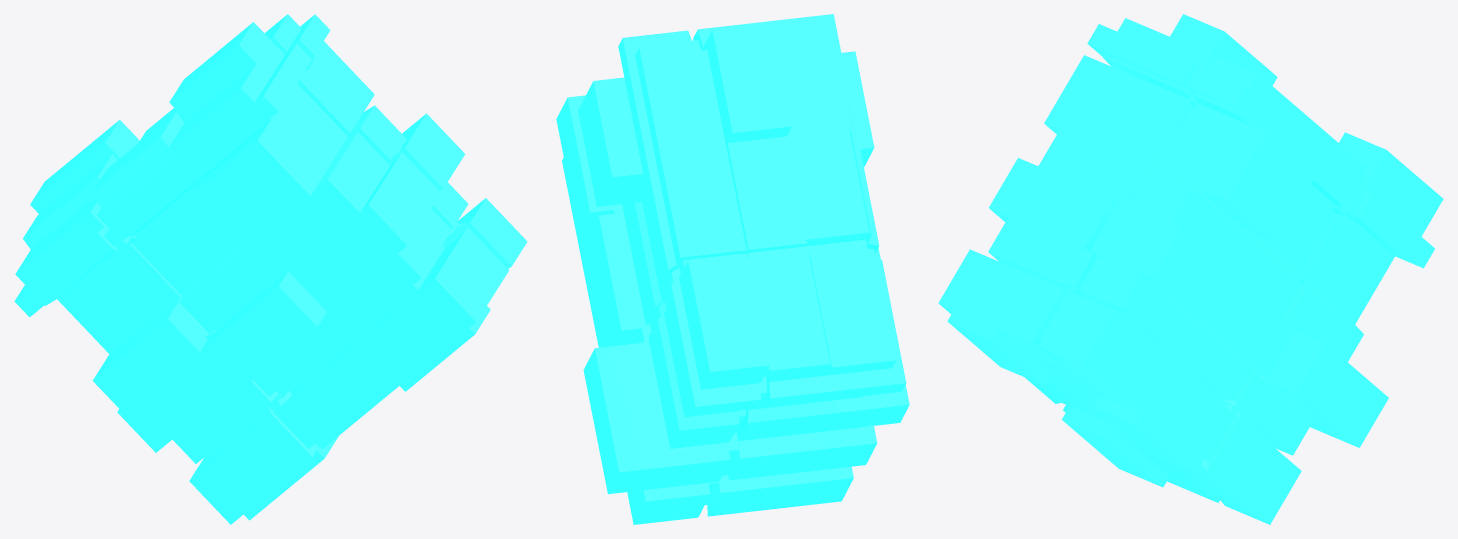
The model's file is Energy Orb.fbx.
The picture shows the model from 3 angles, left to right: view 1: azimuth 30°, elevation 25°; view 2: azimuth 150°, elevation 25°; view 3: azimuth 270°, elevation 25°; orthographic projection. The views are drawn at different scales.
Parts seen in each view (by area): view 1: Energy Orb; view 2: Energy Orb; view 3: Energy Orb.
Part boxes in pixels (x1,y1,x2,y2): Energy Orb: (14,14,527,524); Energy Orb: (556,14,909,524); Energy Orb: (938,14,1443,524).
Bounding box in the file's own units: 125 × 130 × 127.
